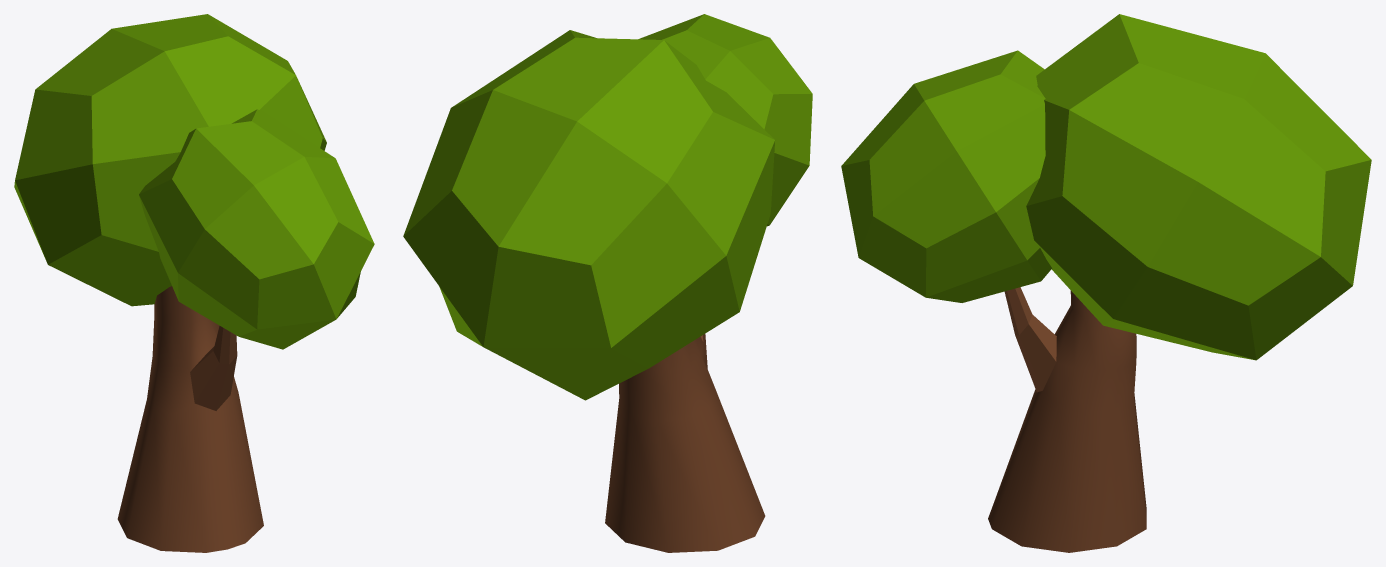
Rendered from tree1.fbx.
The picture shows the model from 3 angles, left to right: view 1: azimuth 30°, elevation 25°; view 2: azimuth 150°, elevation 25°; view 3: azimuth 270°, elevation 25°; orthographic projection. The views are drawn at different scales.
Visible parts, largest first — view 1: polySurface3, polySurface36, trunk; view 2: polySurface3, trunk, polySurface36; view 3: polySurface3, polySurface36, trunk.
Part boxes in pixels (box(x1,y1,x2,y2)): polySurface3: box(14, 14, 326, 306); polySurface36: box(139, 109, 374, 349); trunk: box(117, 286, 263, 552); polySurface3: box(403, 30, 775, 400); trunk: box(605, 334, 765, 552); polySurface36: box(638, 14, 812, 226); polySurface3: box(1026, 14, 1371, 360); polySurface36: box(841, 50, 1052, 302); trunk: box(988, 287, 1146, 552).
Bounding box in the file's own units: 3.65 × 5.7 × 5.45.
